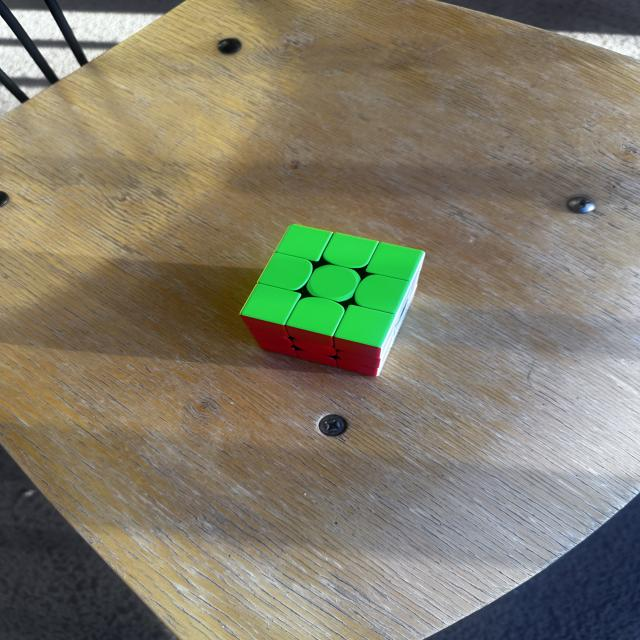sticker: (334, 305, 395, 357), (286, 296, 346, 345), (240, 284, 302, 330), (364, 242, 424, 282), (274, 224, 334, 263), (353, 274, 410, 314), (258, 252, 314, 292), (305, 264, 362, 303), (321, 232, 378, 270)
